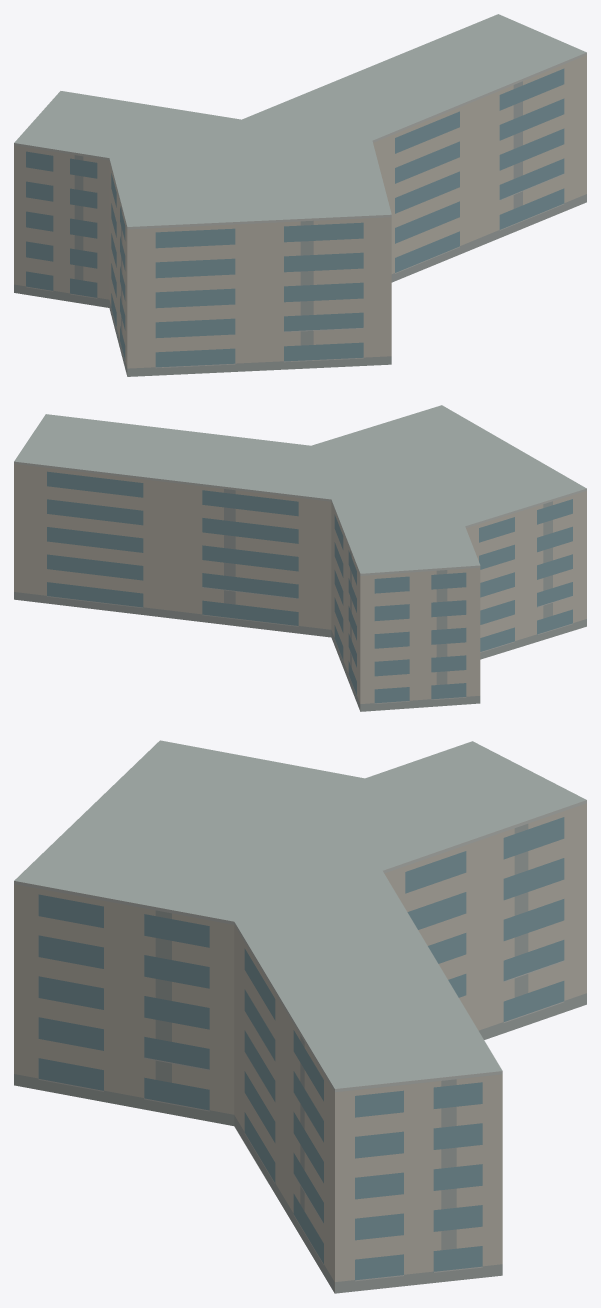
Rendered from residential-acc48012-8709-4530-8fe3-d14259b150ea.glb.
3 renders of one model, top to bottom at view 1: azimuth 30°, elevation 25°; view 2: azimuth 150°, elevation 25°; view 3: azimuth 270°, elevation 25°, orthographic. The views are drawn at different scales.
Visible parts, largest first — view 1: residential-acc48012-8709-4530-8fe3-d14259b150ea.tmp; view 2: residential-acc48012-8709-4530-8fe3-d14259b150ea.tmp; view 3: residential-acc48012-8709-4530-8fe3-d14259b150ea.tmp.
Boxes of the visible parts, x1,y1,x2,y2 form: residential-acc48012-8709-4530-8fe3-d14259b150ea.tmp: [14, 14, 586, 376]; residential-acc48012-8709-4530-8fe3-d14259b150ea.tmp: [14, 405, 586, 711]; residential-acc48012-8709-4530-8fe3-d14259b150ea.tmp: [14, 740, 586, 1293].
Size of the model in its own units: 55.76 by 15.25 by 38.72.
